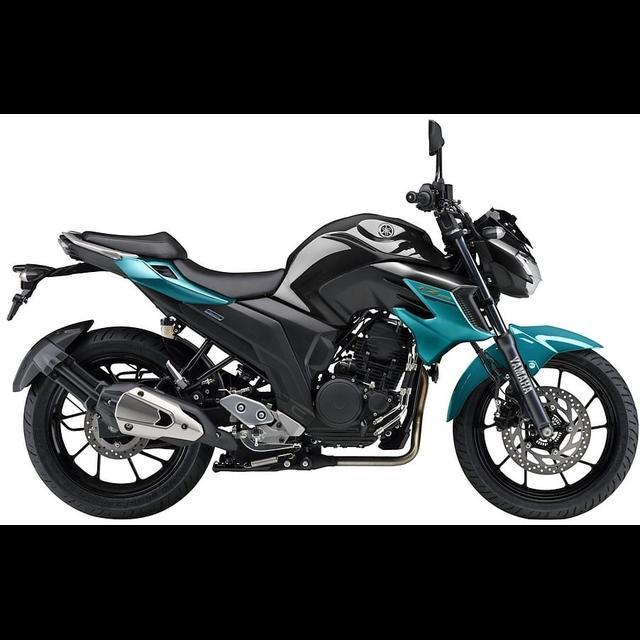motorcycle: (5, 113, 640, 524)
